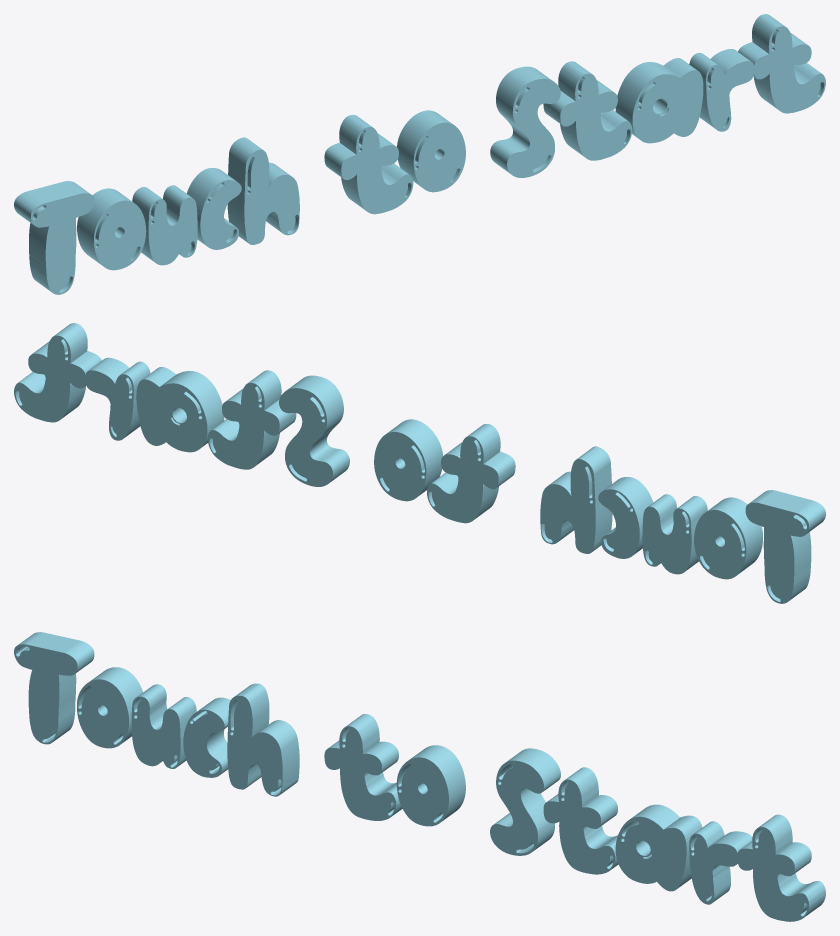
The model's file is touch.fbx.
The picture shows the model from 3 angles, top to bottom: view 1: azimuth 30°, elevation 25°; view 2: azimuth 150°, elevation 25°; view 3: azimuth 330°, elevation 25°; orthographic projection.
Visible parts, largest first — view 1: 텍스트; view 2: 텍스트; view 3: 텍스트.
Boxes of the visible parts, x1,y1,x2,y2 form: 텍스트: [14, 14, 825, 294]; 텍스트: [14, 323, 825, 603]; 텍스트: [14, 632, 825, 921].
Size of the model in its own units: 544 by 64.42 by 20.32.
